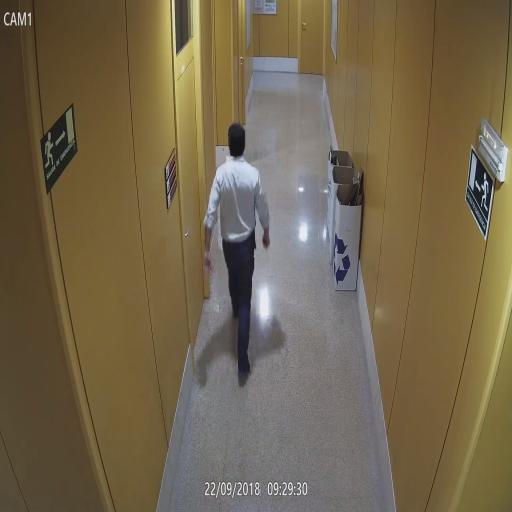Handgun: (261, 232, 270, 250)
